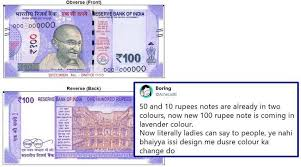hundred: (11, 17, 151, 66)
